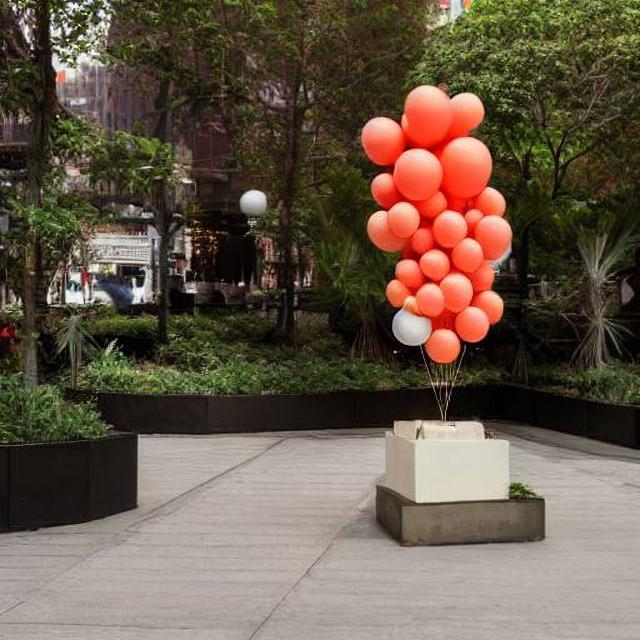balloon: (354, 79, 510, 362)
